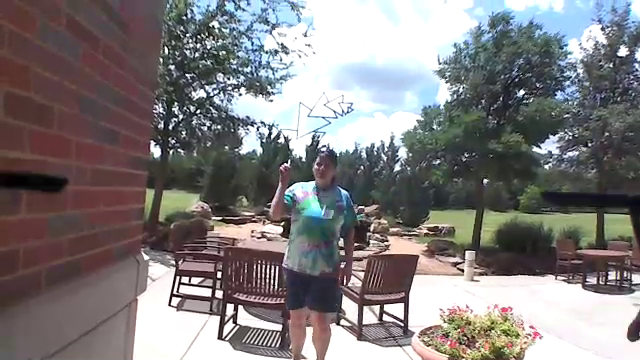up: (275, 153, 294, 184)
